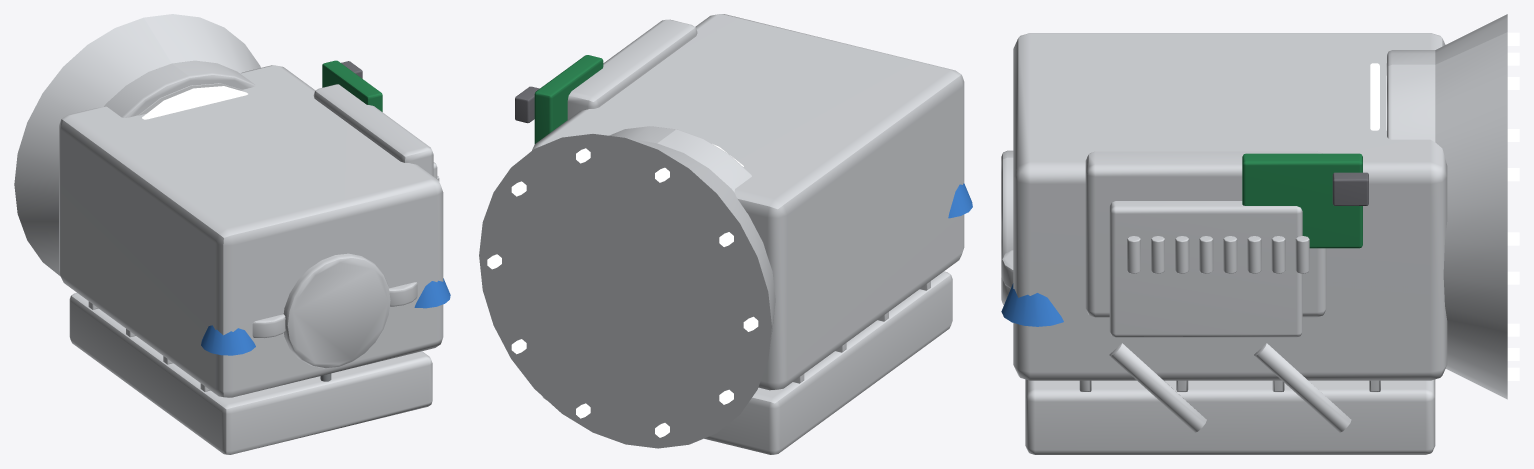
The model's file is trans_dct_7speed_complete.glb.
The picture shows the model from 3 angles, left to right: view 1: azimuth 30°, elevation 25°; view 2: azimuth 150°, elevation 25°; view 3: azimuth 270°, elevation 25°; orthographic projection. The views are drawn at different scales.
Parts seen in each view (by area): view 1: DCT_Gearbox_Case, DCT_Differential_Assembly, DCT_ClutchPack_Assembly, DCT_Mechatronics_Unit; view 2: DCT_Gearbox_Case, DCT_Mechatronics_Unit, DCT_ClutchPack_Assembly, DCT_Differential_Assembly; view 3: DCT_Gearbox_Case, DCT_Mechatronics_Unit, DCT_Differential_Assembly, DCT_ClutchPack_Assembly.
Boxes of the visible parts, <box> form: DCT_Gearbox_Case: <box>14,14,443,454</box>; DCT_Differential_Assembly: <box>201,253,450,368</box>; DCT_ClutchPack_Assembly: <box>104,60,255,119</box>; DCT_Mechatronics_Unit: <box>320,60,439,381</box>; DCT_Gearbox_Case: <box>479,14,964,454</box>; DCT_Mechatronics_Unit: <box>515,55,603,143</box>; DCT_ClutchPack_Assembly: <box>609,126,751,192</box>; DCT_Differential_Assembly: <box>948,183,972,218</box>; DCT_Gearbox_Case: <box>1013,14,1519,454</box>; DCT_Mechatronics_Unit: <box>1109,153,1368,337</box>; DCT_Differential_Assembly: <box>1001,150,1351,432</box>; DCT_ClutchPack_Assembly: <box>1370,50,1435,141</box>.
Size of the model in its own units: 0.348 by 0.336 by 0.43.
